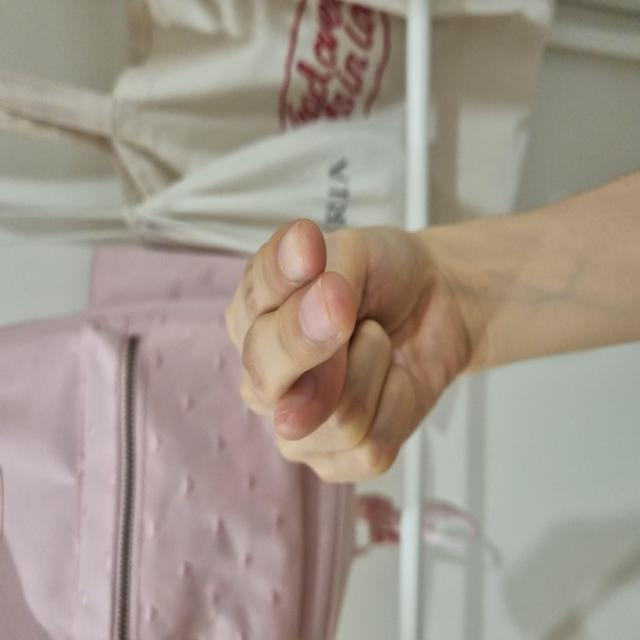N_TILDE: (136, 176, 580, 535)
